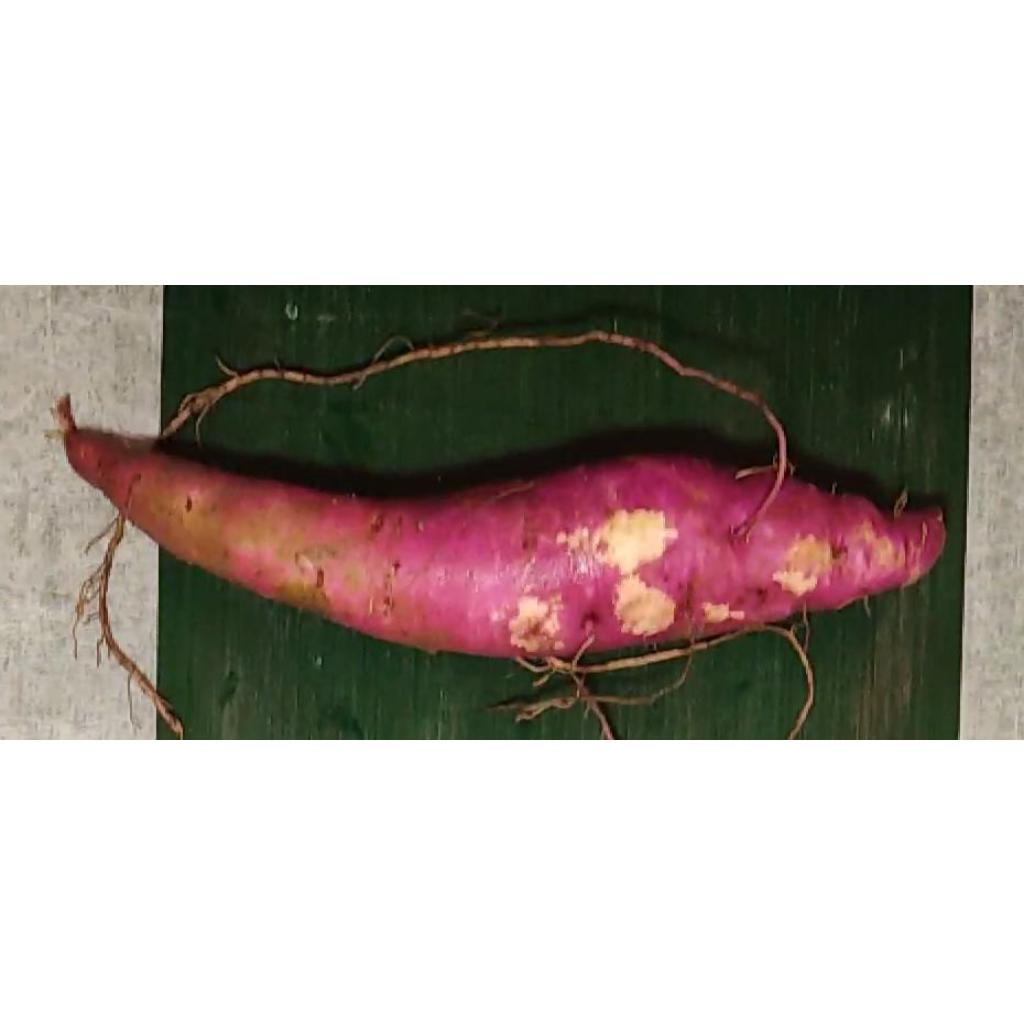Sweet Potato: (62, 425, 945, 662)
